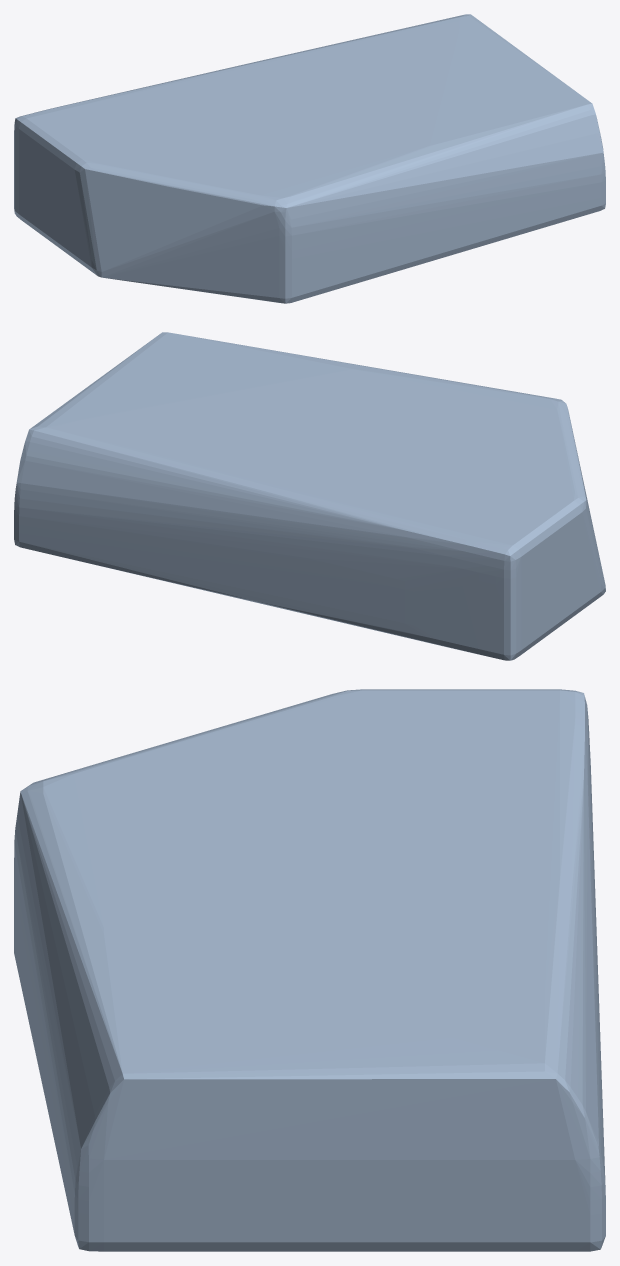
File: right_elbow_link_part_6.obj
3 renders of one model, top to bottom at view 1: azimuth 30°, elevation 25°; view 2: azimuth 150°, elevation 25°; view 3: azimuth 270°, elevation 25°, orthographic. The views are drawn at different scales.
Bounding box in the file's own units: 0.0905 × 0.0195 × 0.0577.
